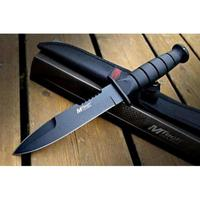knife: (9, 39, 196, 156)
